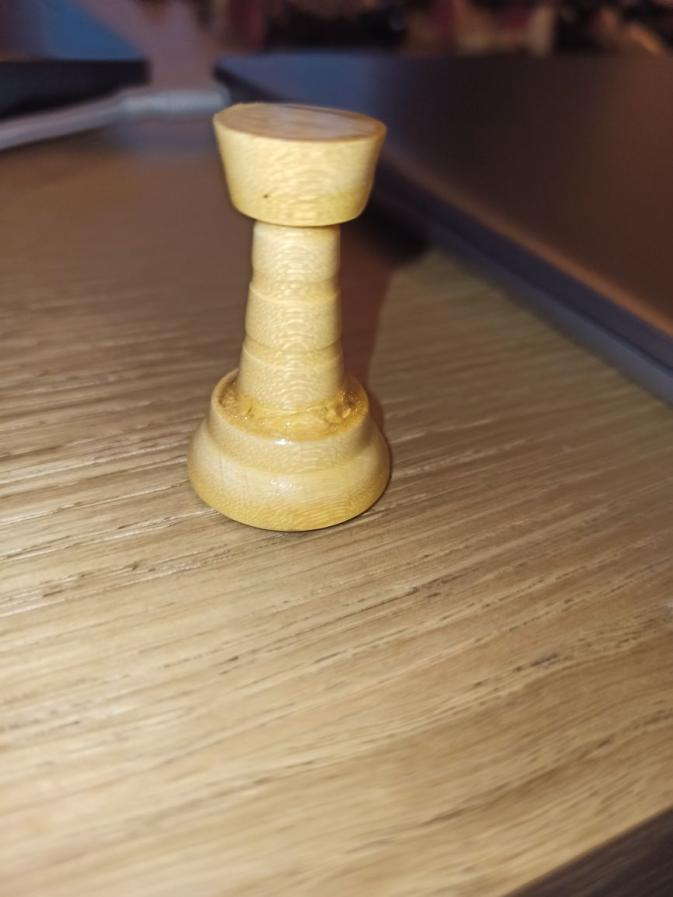wrook: (186, 100, 394, 534)
